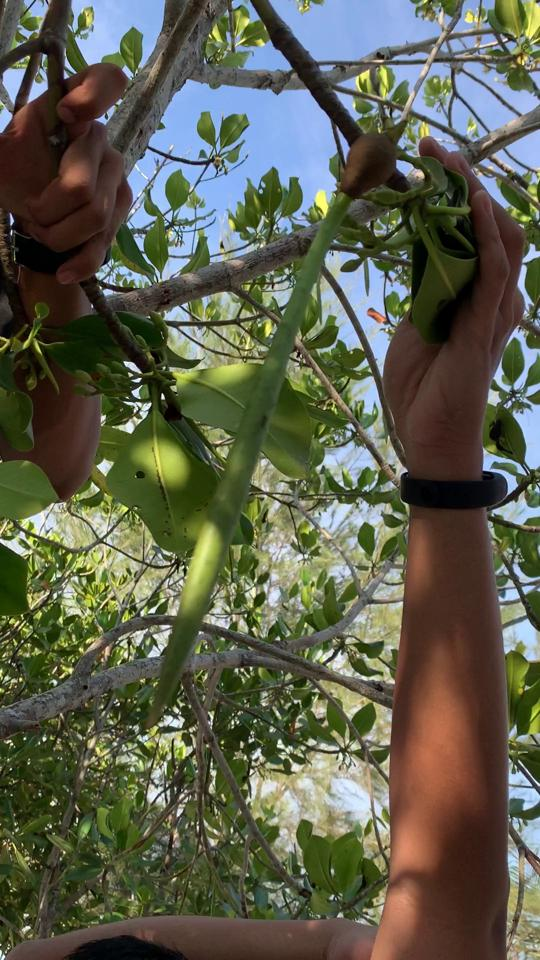mentah: (123, 115, 415, 748)
